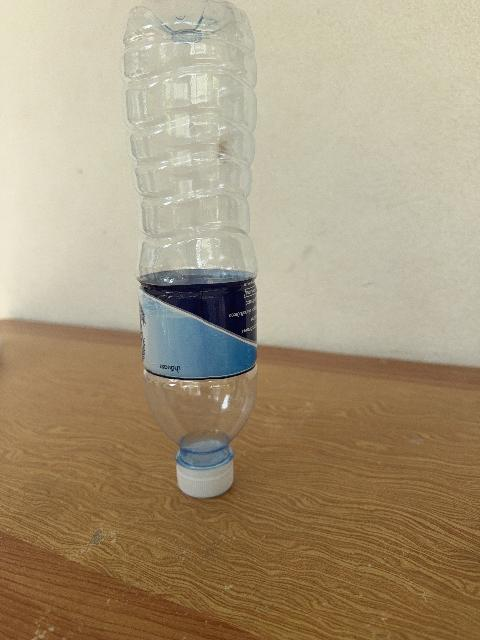bottle: (123, 0, 256, 497)
